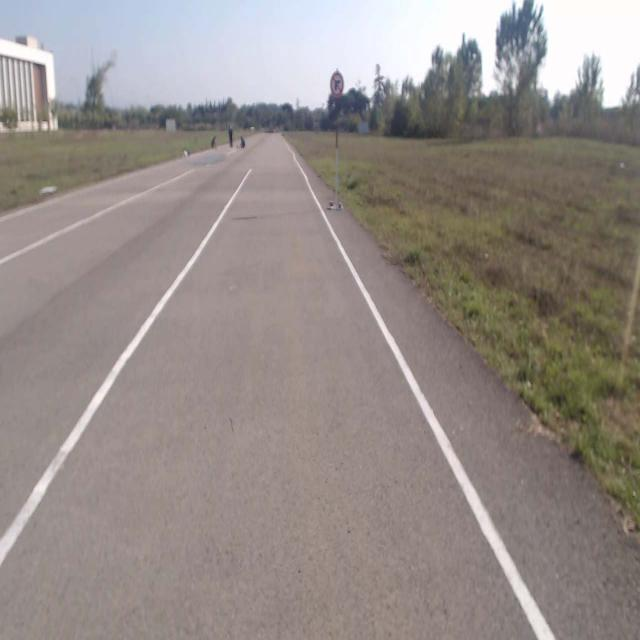sagadonulmez: (331, 72, 343, 96)
